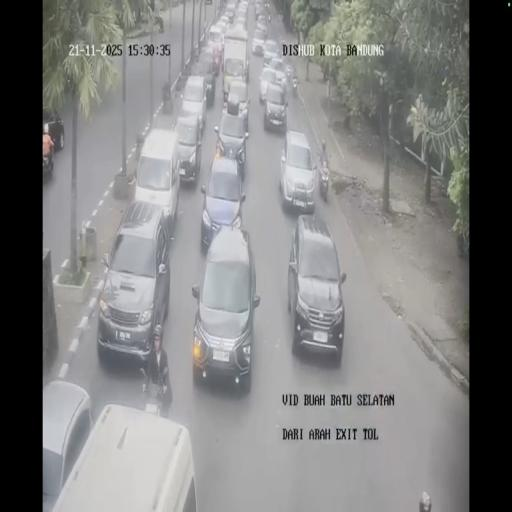car: (98, 199, 172, 363), (288, 211, 346, 358), (134, 128, 182, 233), (199, 152, 247, 252), (279, 129, 316, 214), (172, 112, 205, 182), (221, 78, 251, 132), (193, 50, 218, 104), (262, 80, 288, 131), (262, 38, 279, 66), (208, 23, 224, 50), (235, 5, 249, 29), (252, 33, 266, 55), (254, 0, 268, 21), (224, 8, 234, 22)
motorcycle: (318, 160, 329, 200)
